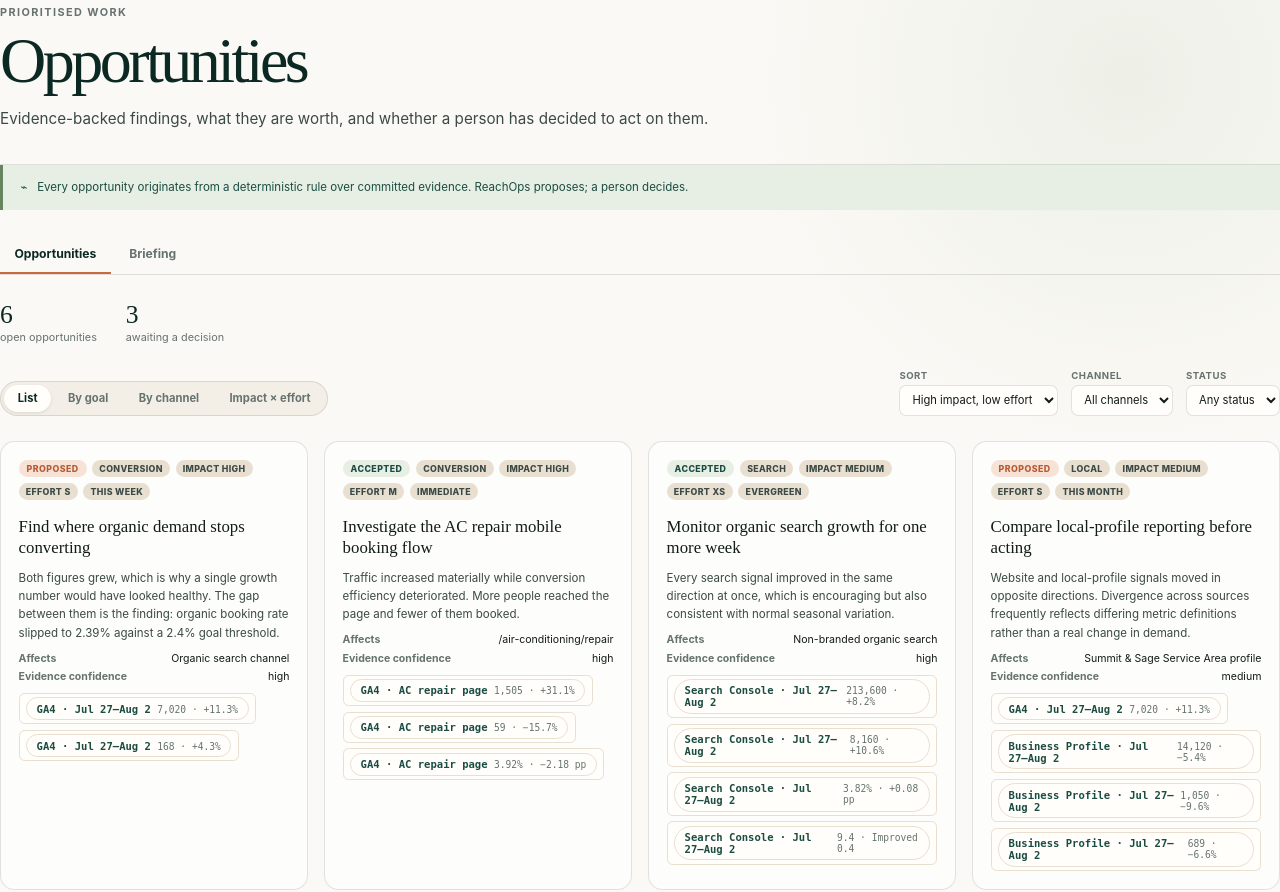
Test: OpportunitiesView › exposes the rule and thresholds behind an observation
Click the button "Investigate the AC repair mobile booking flow": click(478, 538) 343,517 -> 613,559
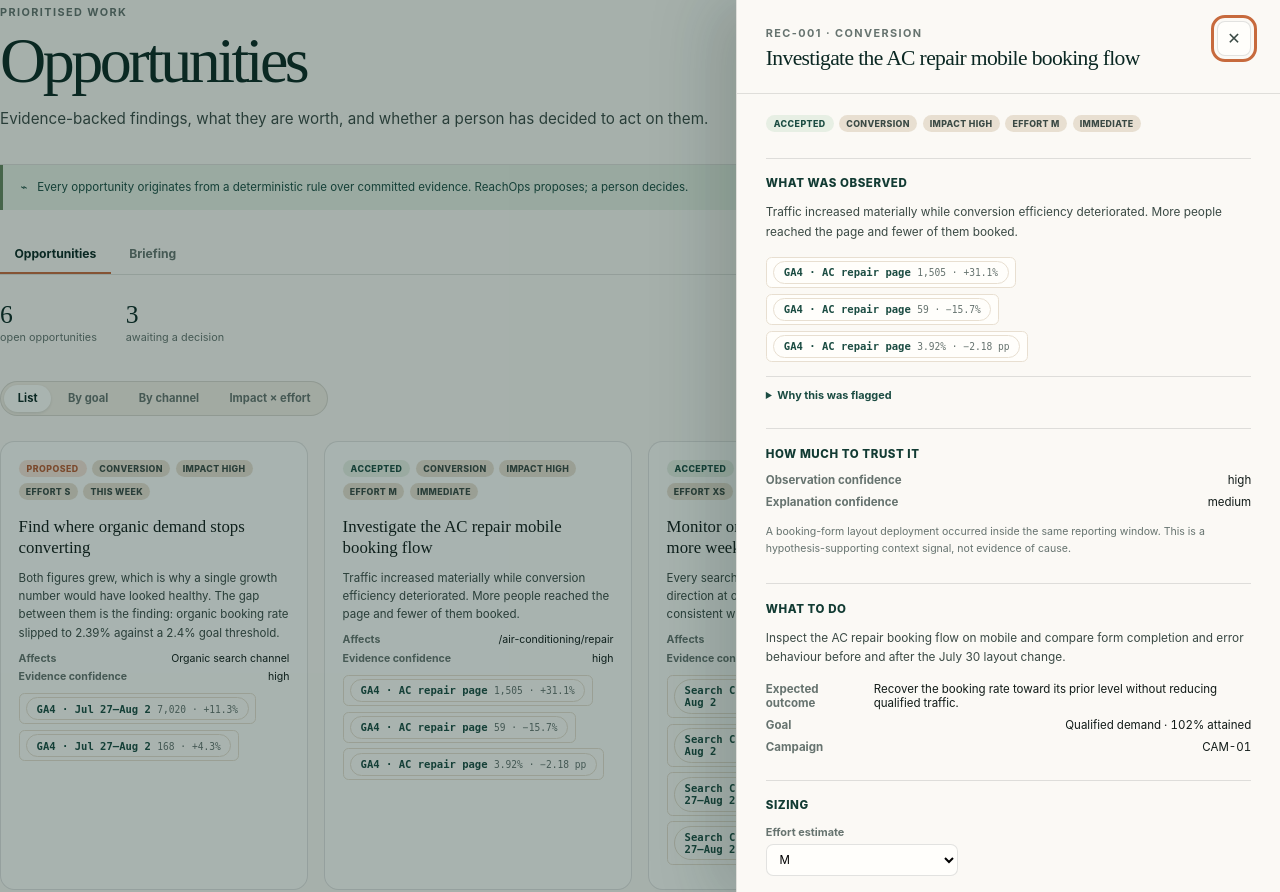
Click the heading "Why this was flagged": click(834, 395) 777,388 -> 892,402
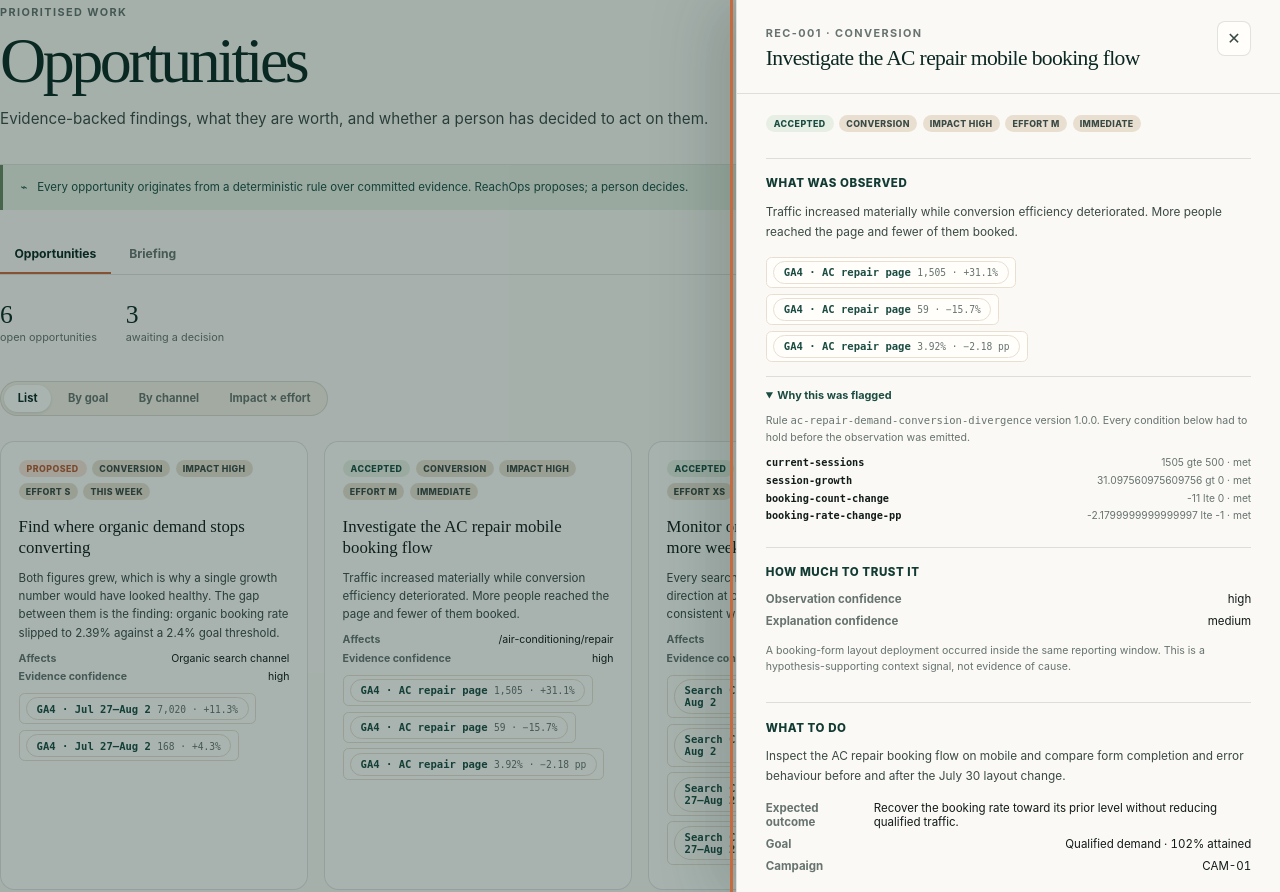
Expected: the text "ac-repair-demand-conversion-divergence" is shown, 790,414 -> 1032,426
Expected: the text "current-sessions" is shown, 766,456 -> 864,468
